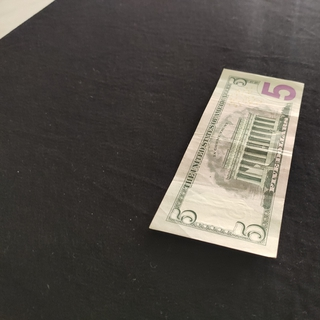5USDBack: (148, 67, 304, 258)
